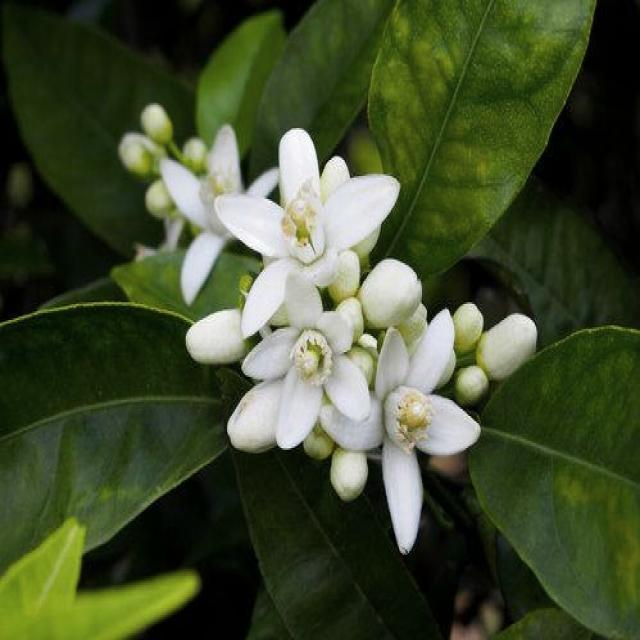Bunga: (320, 306, 478, 558), (222, 132, 396, 318), (246, 272, 367, 439), (163, 123, 279, 297), (227, 375, 286, 457), (477, 310, 540, 382), (362, 259, 424, 329), (182, 309, 244, 359), (326, 440, 367, 500), (120, 132, 166, 176), (328, 247, 361, 301), (449, 300, 482, 354), (454, 364, 486, 406), (144, 182, 178, 216), (141, 104, 173, 140), (123, 140, 150, 172), (183, 138, 208, 172)
